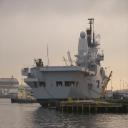Portanaves: (22, 13, 110, 114)
